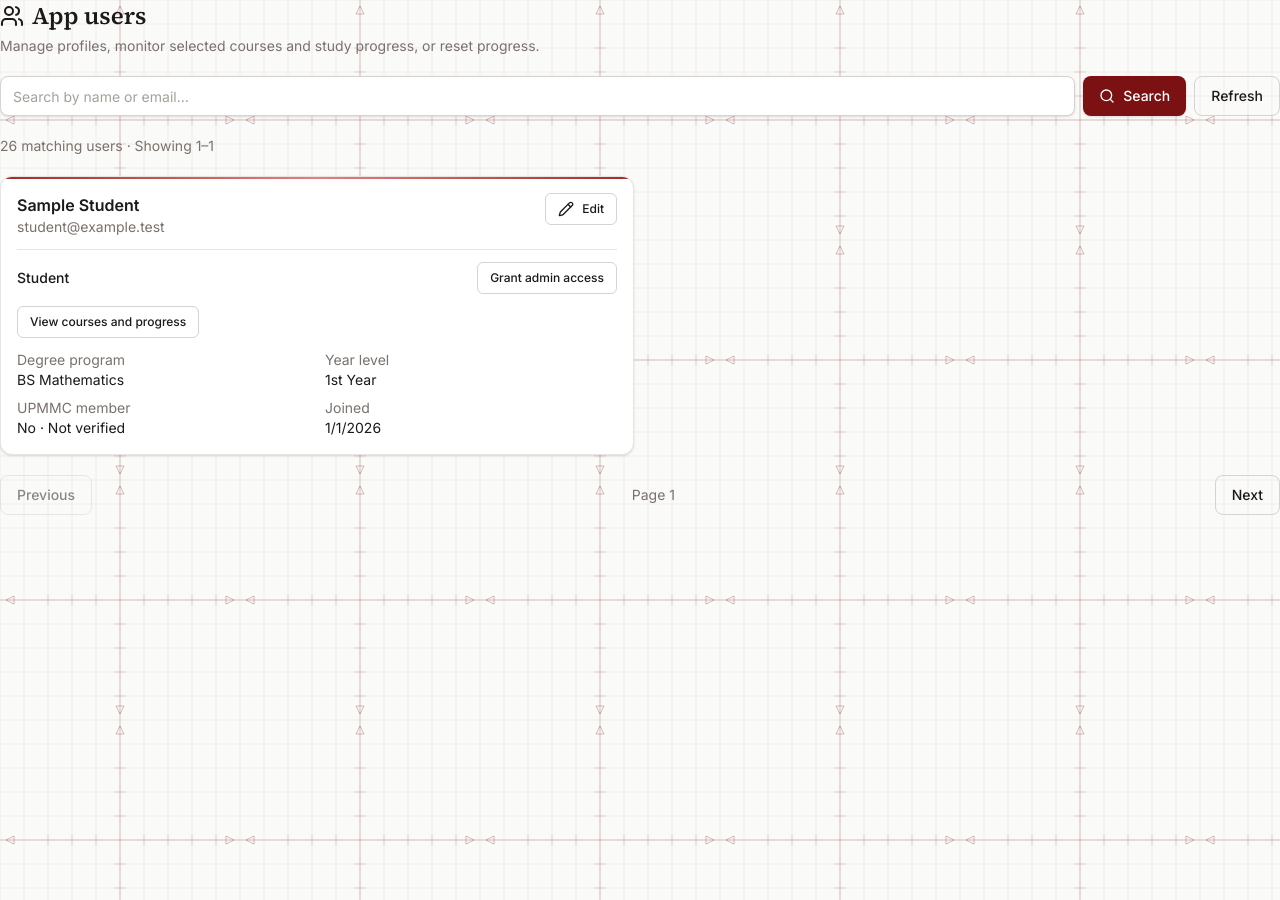
admin users › retains a failed grant for retry without claiming success
Click the button "Grant admin access" at [547, 278], box [477,262,617,294]
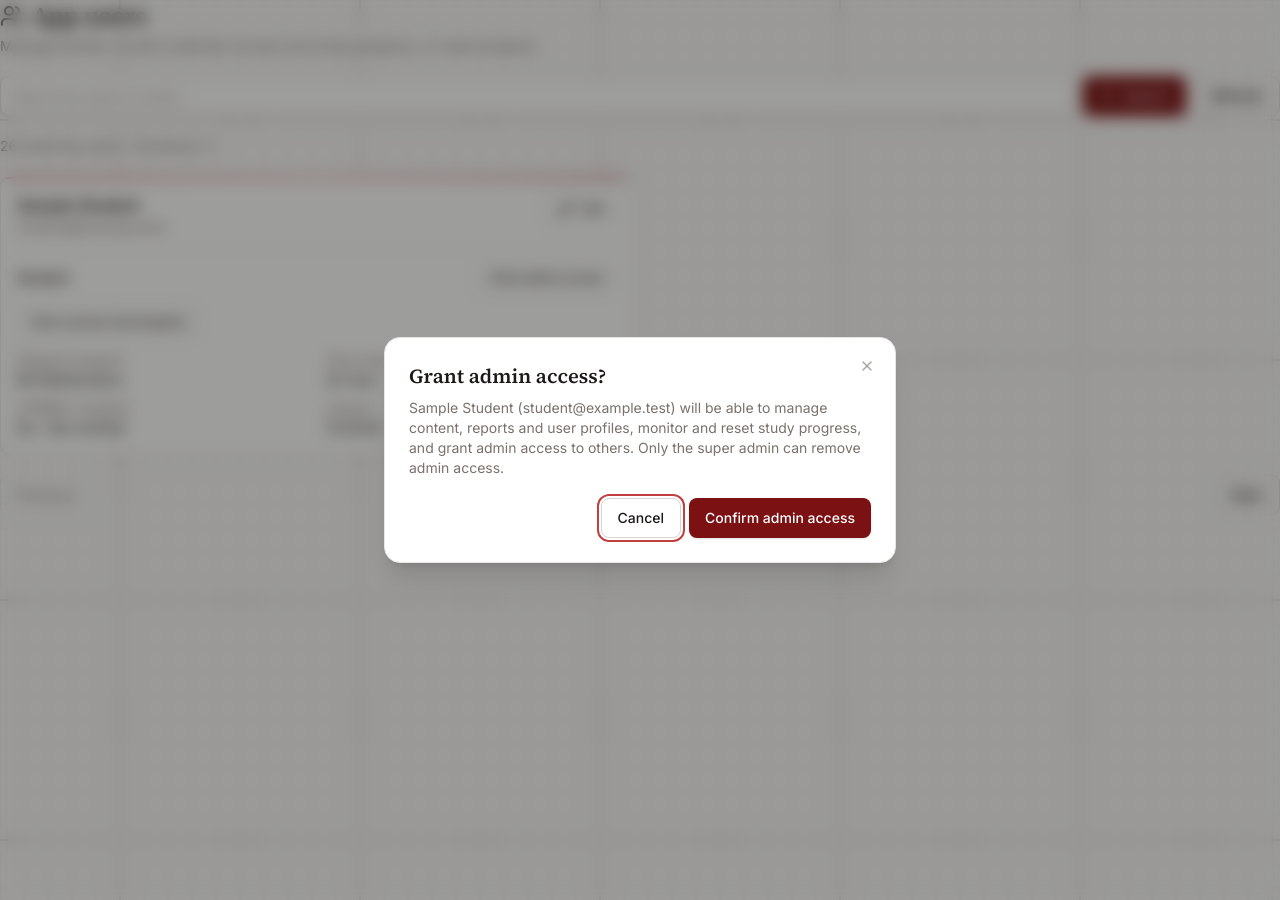
Click the button "Confirm admin access" at [780, 518], box [689,498,871,538]
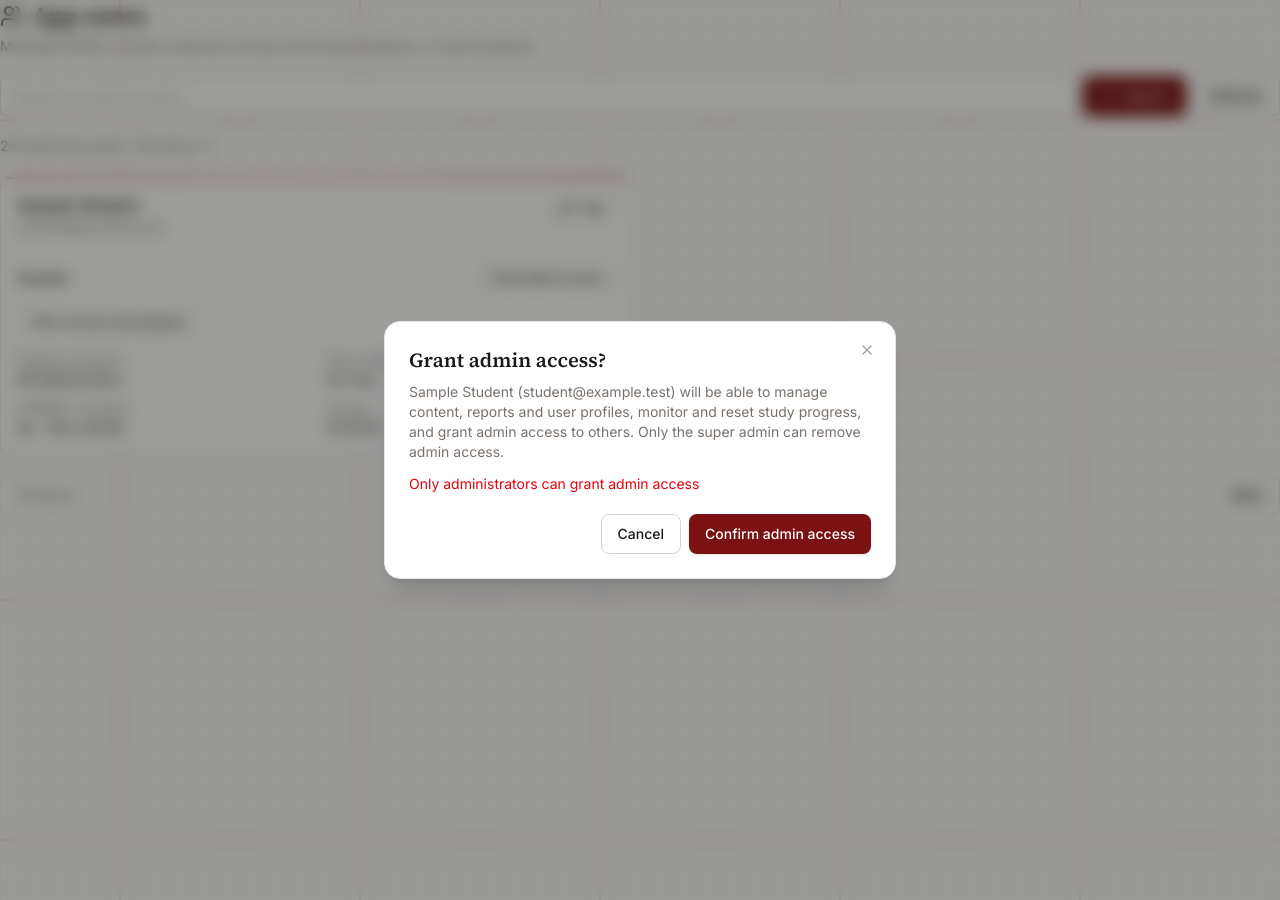
expect the dialog is shown: met, box [384,321,896,579]
expect the message shows "Only administrators": met, box [409,475,699,492]
